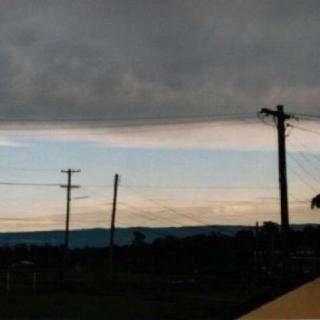Nimbostratus: (0, 0, 320, 222)
